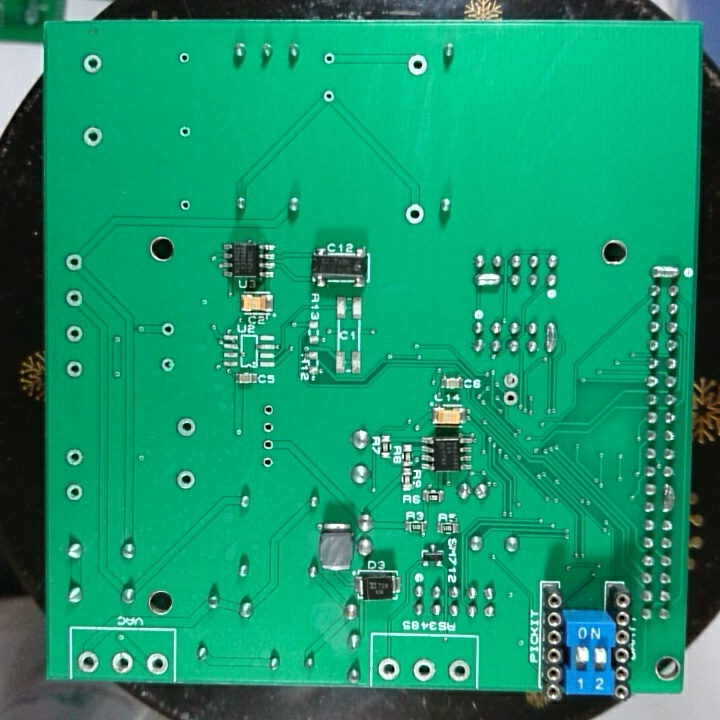F: (408, 656, 439, 683), (445, 655, 473, 684), (143, 649, 171, 678), (108, 646, 135, 676), (404, 49, 431, 79), (375, 655, 403, 683), (75, 648, 102, 676), (401, 202, 430, 228), (79, 50, 105, 77), (79, 125, 105, 149), (174, 414, 198, 440), (174, 466, 198, 492), (62, 323, 87, 347), (63, 480, 86, 505), (62, 251, 85, 275), (63, 286, 85, 310), (63, 446, 85, 469), (63, 358, 86, 380), (499, 388, 522, 410), (499, 369, 522, 390), (158, 319, 178, 340), (158, 355, 177, 376), (320, 49, 339, 69), (175, 49, 194, 68), (176, 121, 194, 141), (259, 453, 277, 472), (177, 195, 195, 214), (320, 86, 337, 106), (258, 437, 278, 453), (261, 401, 277, 419), (260, 420, 278, 435)
P: (659, 479, 678, 517), (647, 262, 683, 281), (471, 269, 504, 289), (542, 318, 558, 356)
